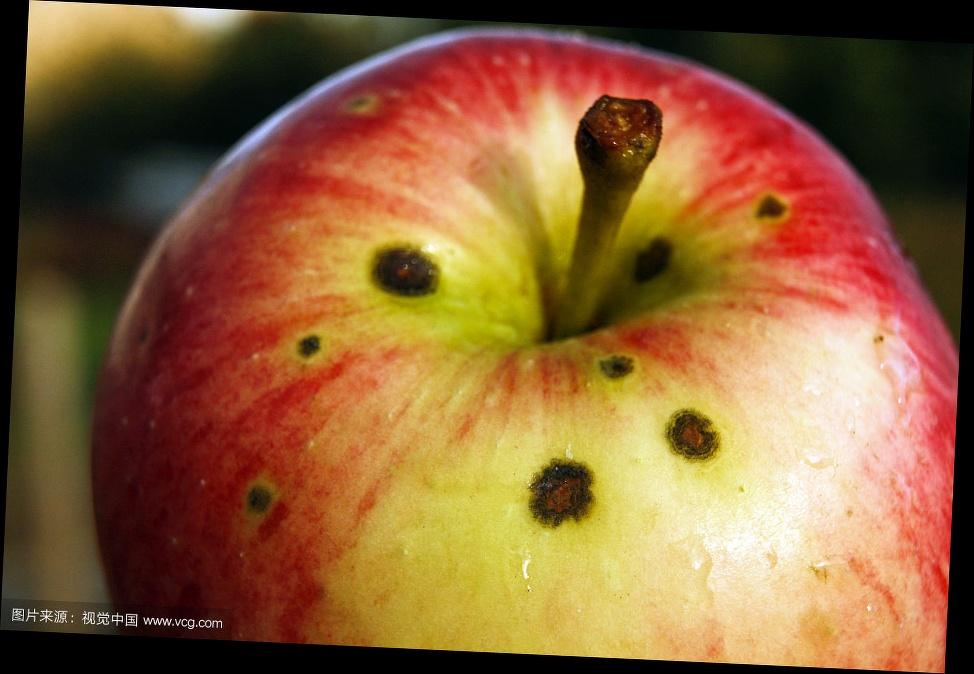rotten apple: (96, 24, 960, 654)
